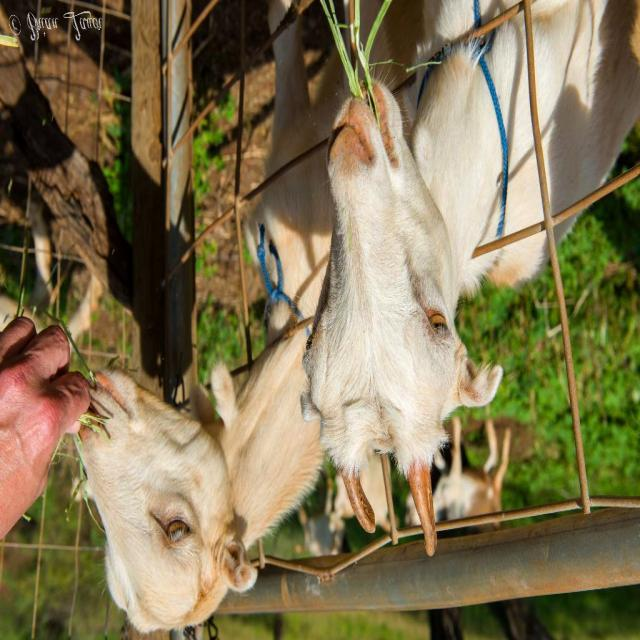Goat: (72, 2, 430, 636), (298, 2, 639, 559)
